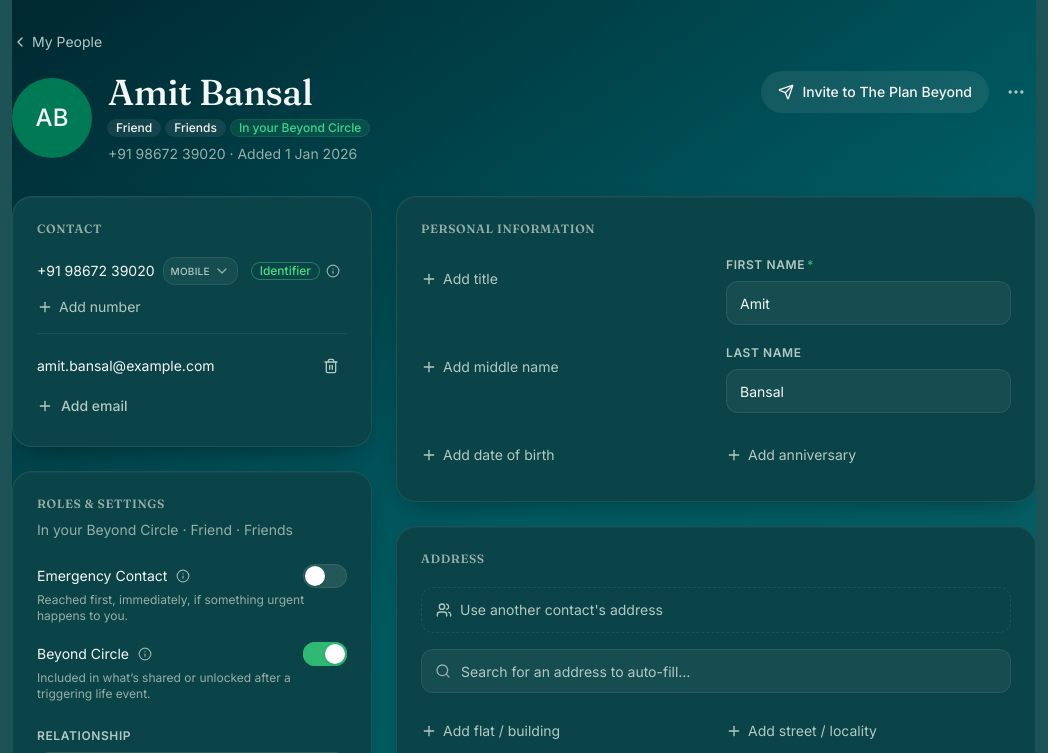
Test case: ContactDetailPage (integration) › toggling Beyond Circle marks the form dirty
This screenshot has width=1048, height=753.
Expected: the heading "Amit Bansal" is shown, [108,70,313,114]
Click the switch named "Emergency Contact" at (325, 576), box [303,564,347,588]
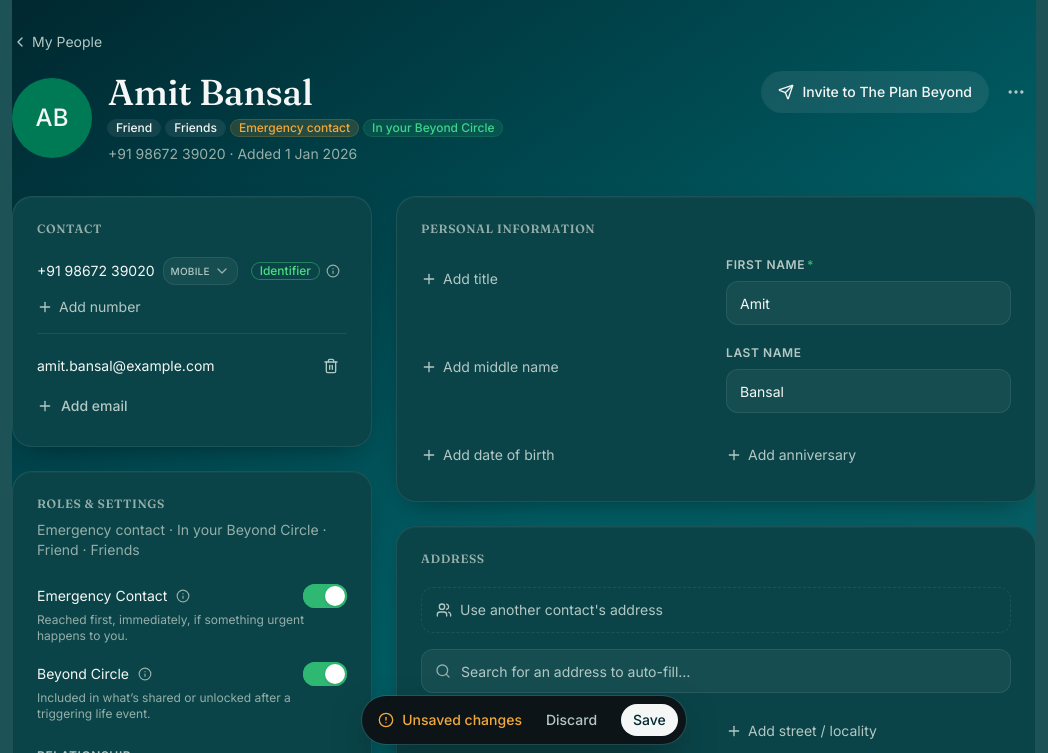
Result: the element "Unsaved changes Discard Save" is shown at [362,696,686,744]
